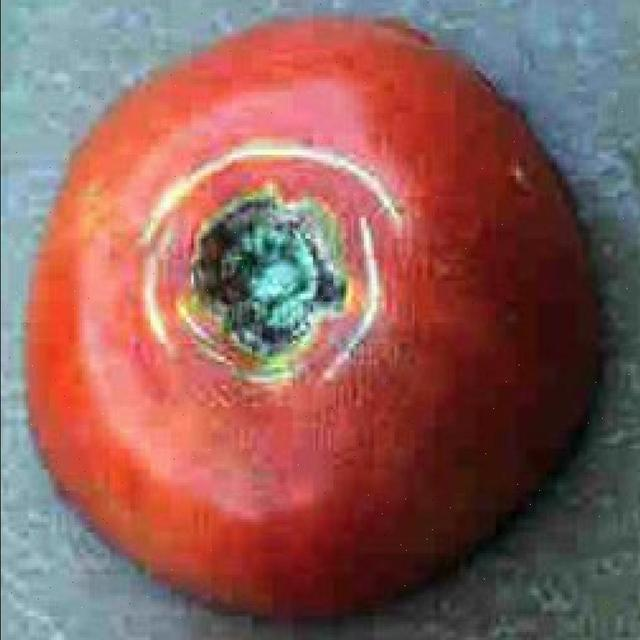Cracking Fruit: (28, 65, 232, 232)
